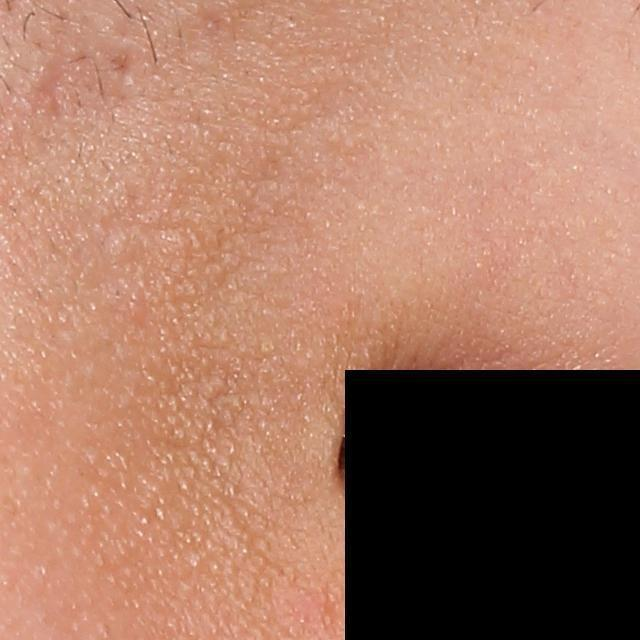atrophic_scar: (27, 69, 65, 117), (104, 49, 134, 83)
